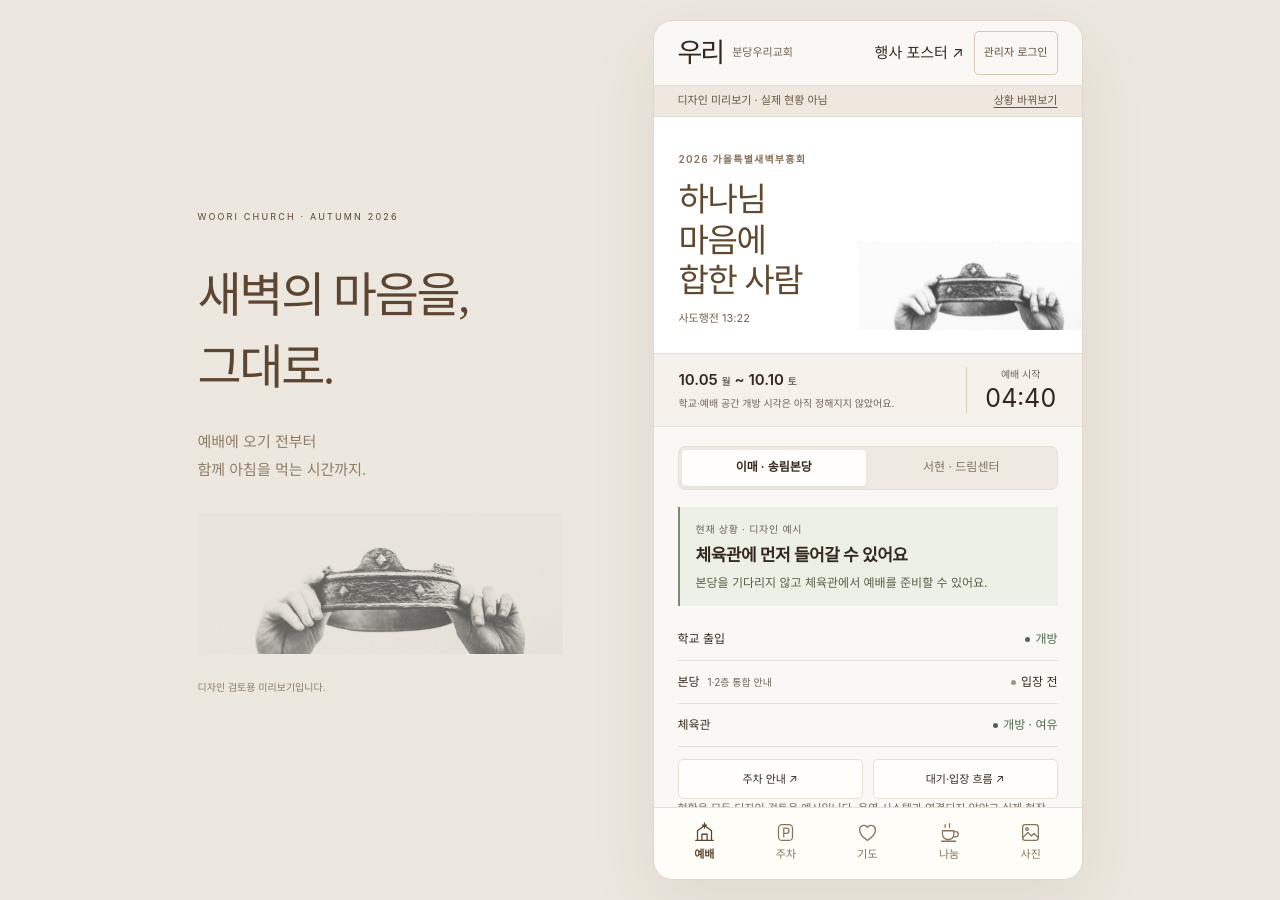
CompanionApp › keeps Songrim snack sharing outside before school opens and gates indoor hot water on gym opening
Click the tab "나눔": coordinates (949, 842) x1=908 y1=816 x2=990 y2=869
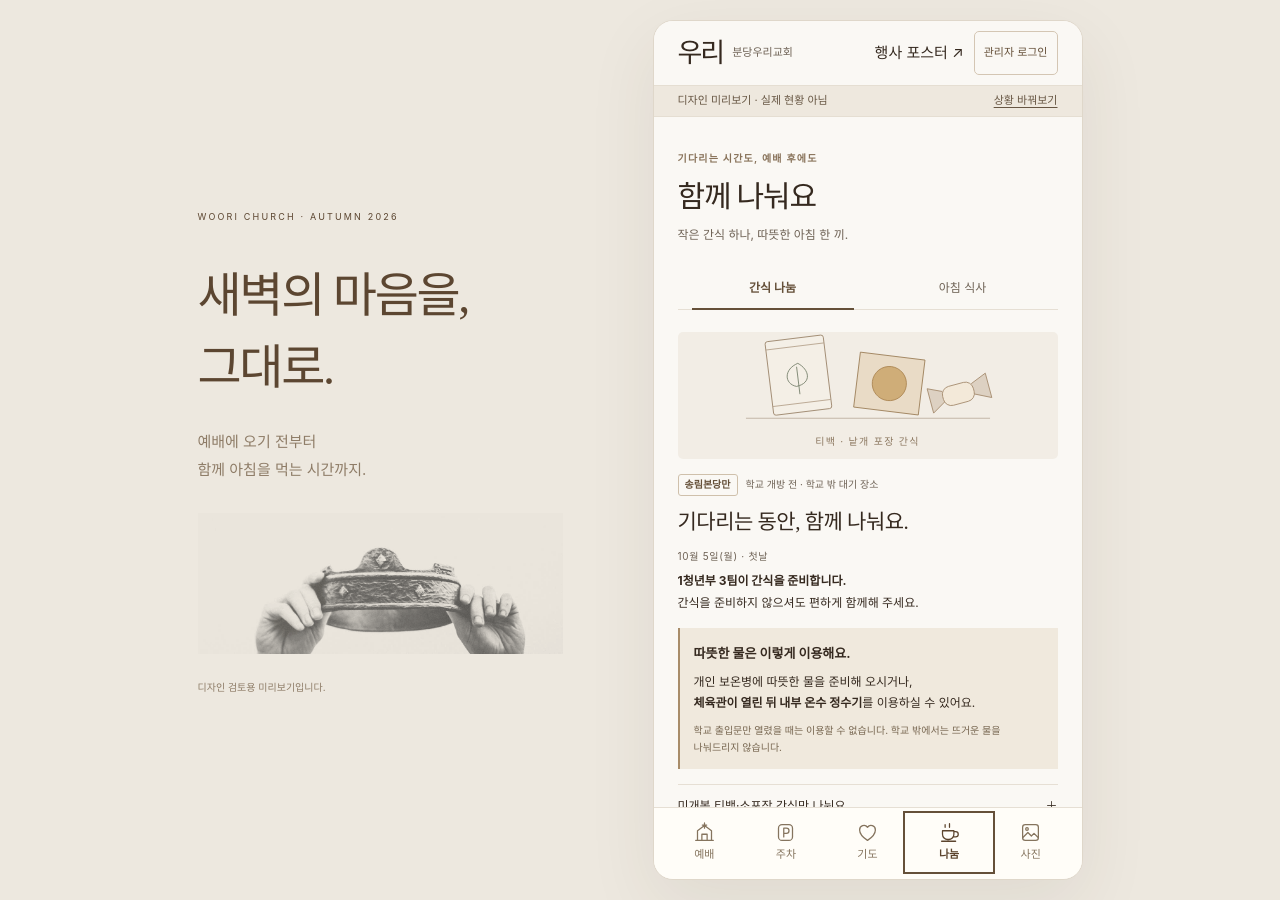
Check: the text "송림본당만" is shown, box x1=678 y1=474 x2=738 y2=496
Check: the text "학교 개방 전 · 학교 밖 대기 장소" is shown, box x1=746 y1=477 x2=878 y2=493
Check: the text "개인 보온병에 따뜻한 물을 준비해 오시거나" is shown, box x1=694 y1=674 x2=913 y2=688
